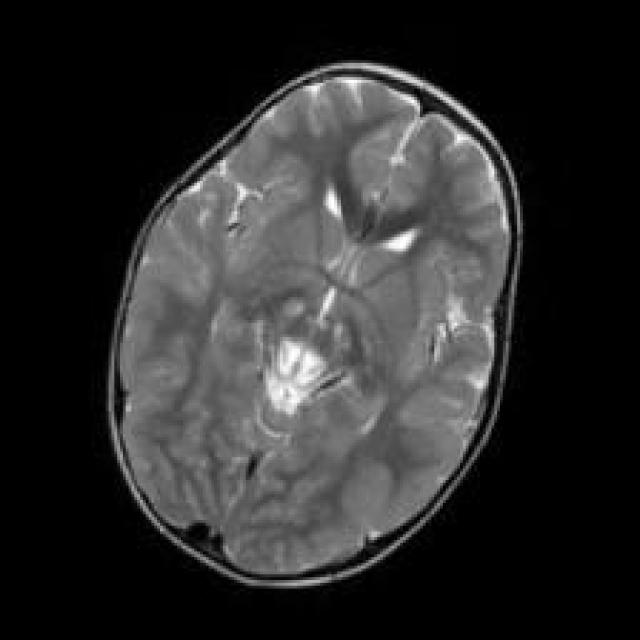no_tumor: (89, 50, 530, 607)
